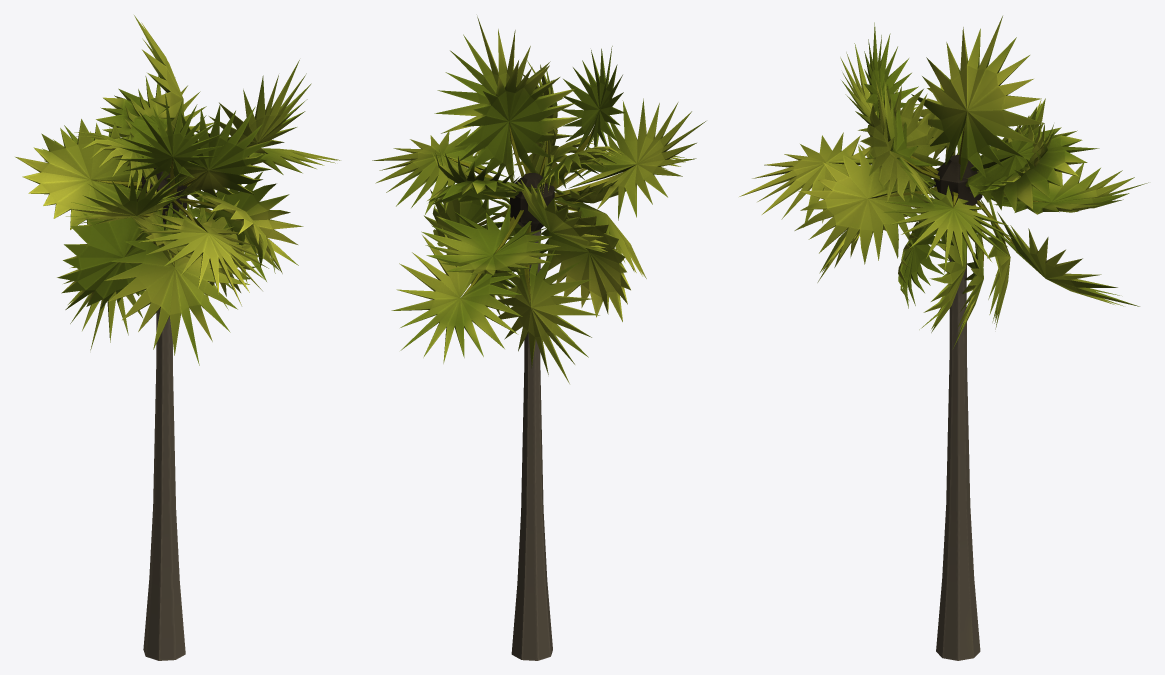
The model's file is Palm tree (1).glb.
3 renders of one model, left to right at view 1: azimuth 30°, elevation 25°; view 2: azimuth 150°, elevation 25°; view 3: azimuth 270°, elevation 25°, orthographic. The views are drawn at different scales.
Visible parts, largest first — view 1: PalmyraPalmTree_mesh; view 2: PalmyraPalmTree_mesh; view 3: PalmyraPalmTree_mesh.
Part boxes in pixels (x1,y1,x2,y2): PalmyraPalmTree_mesh: [15, 15, 340, 660]; PalmyraPalmTree_mesh: [372, 16, 705, 660]; PalmyraPalmTree_mesh: [739, 16, 1148, 660].
Bounding box in the file's own units: 15.95 × 31.38 × 18.6.
Materials: 1 (1 with a texture image).
